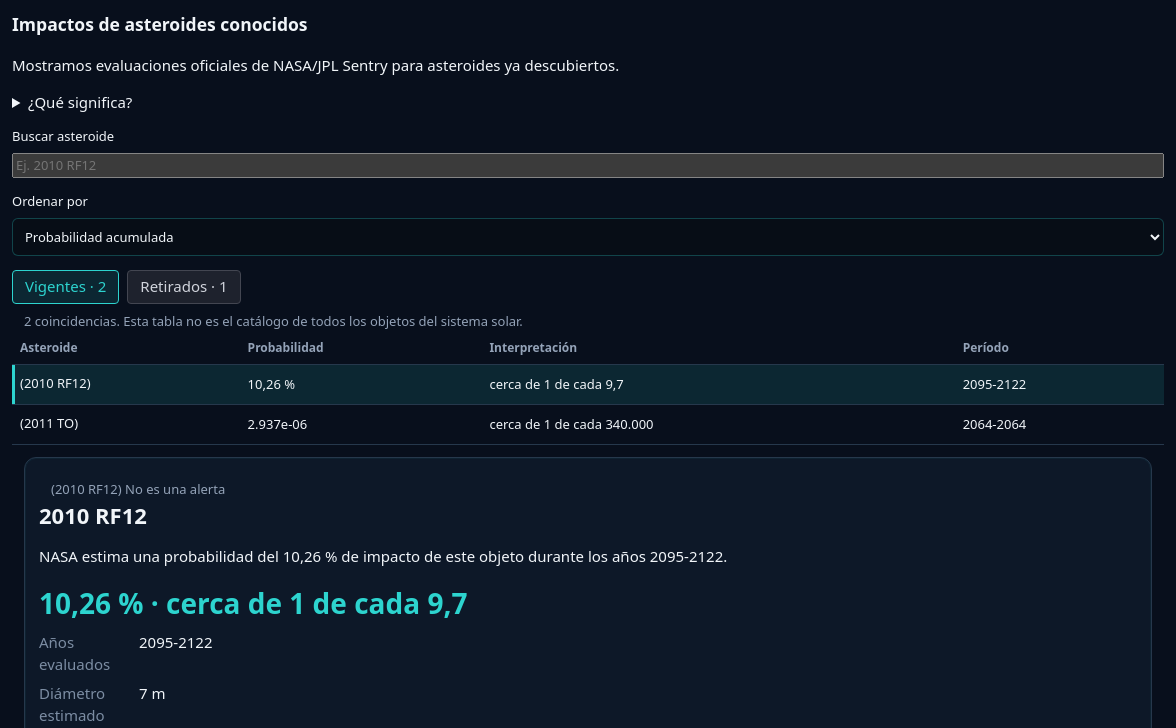
Sentry › explica un retiro sin convertirlo en impacto y no inventa una tabla ausente
This screenshot has width=1176, height=728.
Later steps or results of the test are not shown.
Click the button "Retirados · 1" at (184, 287), box [127,270,241,304]
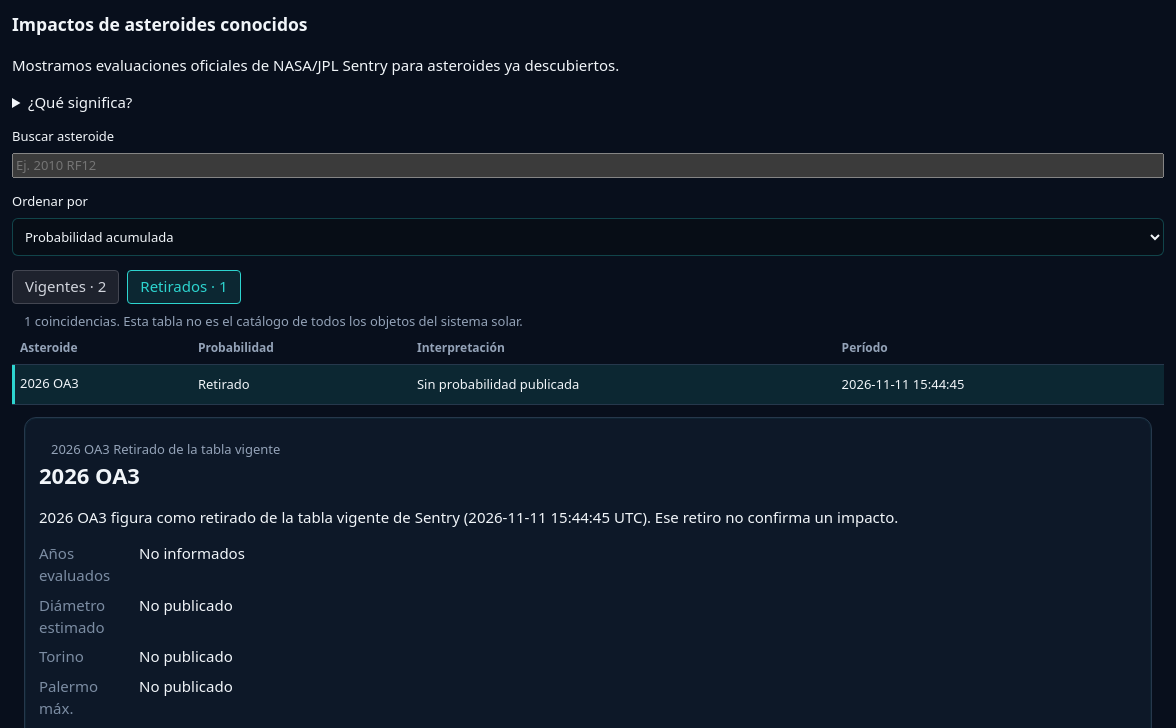
Check: the text "no confirma un impacto" is shown, box [39,507,898,527]
